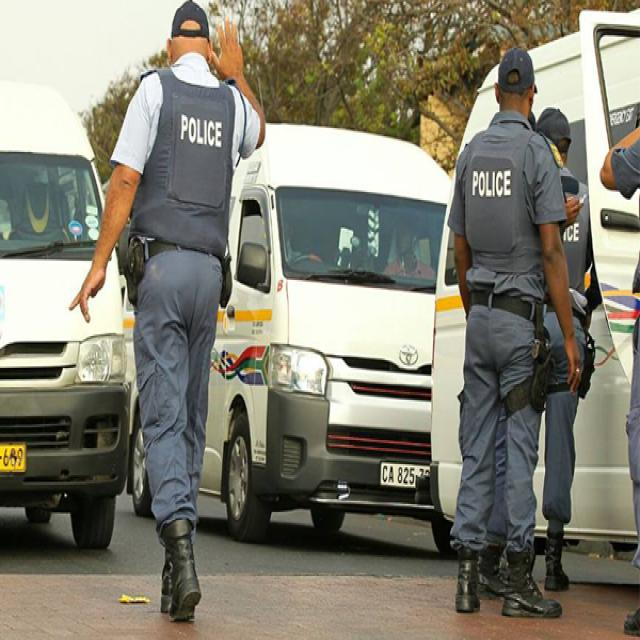MiniBus taxi: (228, 122, 454, 539)
Pedestrians: (74, 2, 266, 620), (453, 43, 582, 629)
